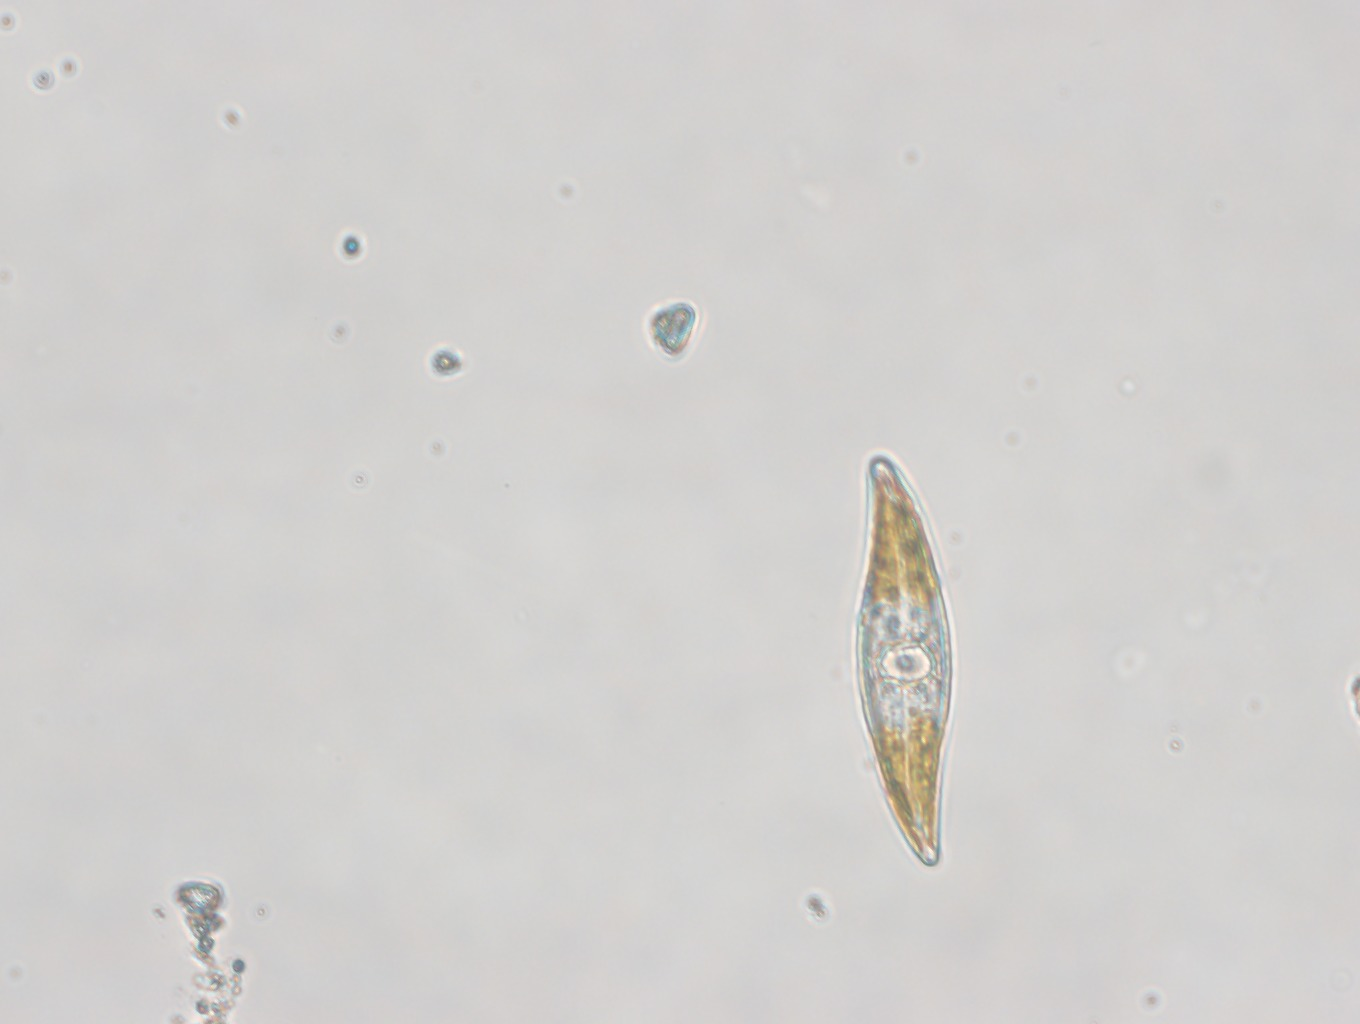navicula: (843, 449, 971, 871)
